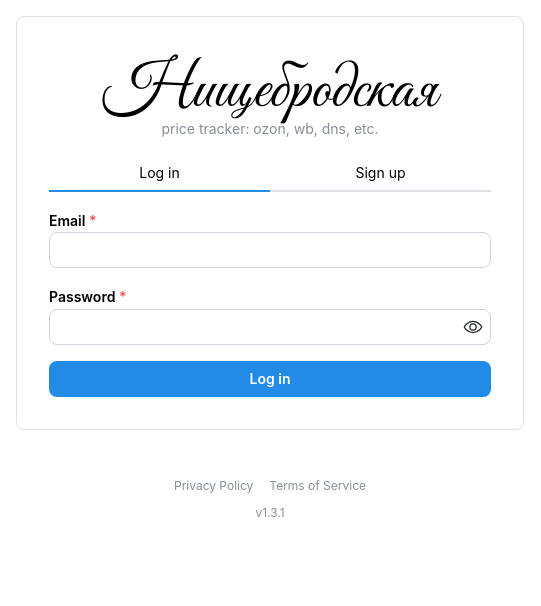
Scenario: tells to wait when the hub says there were too many attempts, and for how long
This screenshot has width=541, height=606.
Type "jane@example.com" into the field labelled "Email *" at (270, 250), box [49, 232, 491, 268]
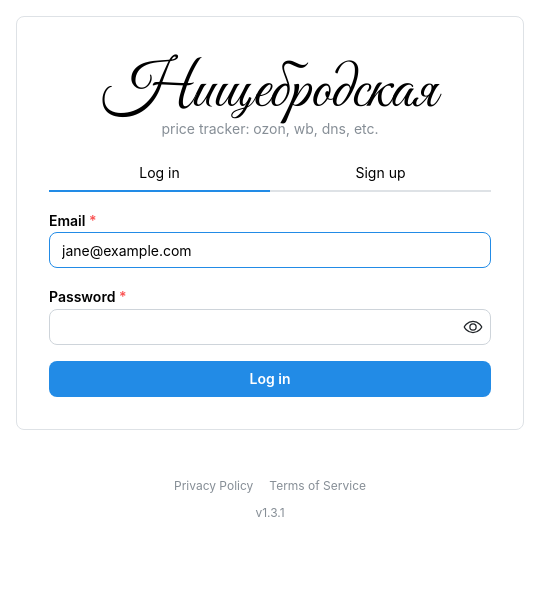
Type "secret-pass" into the password field labelled "Password *" at (270, 327), box [50, 310, 490, 344]
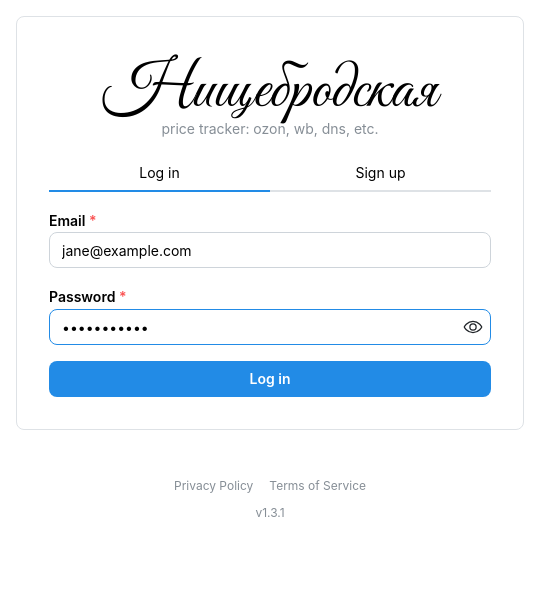
Click the button "Log in" at (270, 379), box [49, 361, 491, 397]
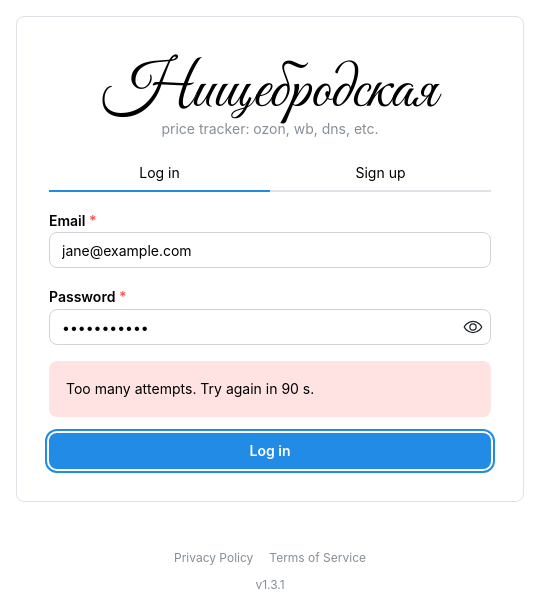
expect the message reads "Too many attempts. Try again in 90 s.": met, box [66, 380, 314, 397]
